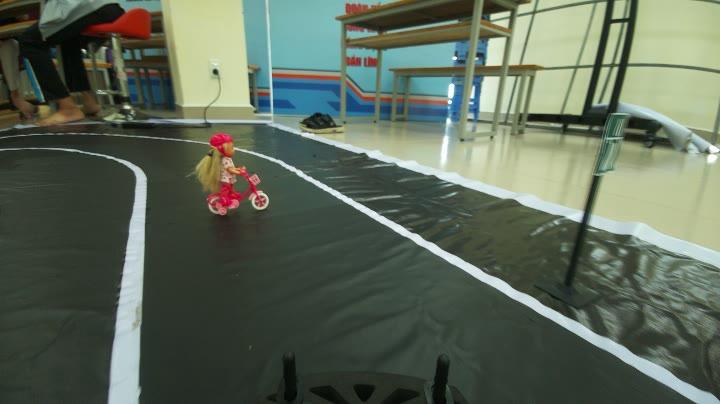highway_entry: (593, 113, 641, 182)
pedestrian: (180, 134, 286, 223)
